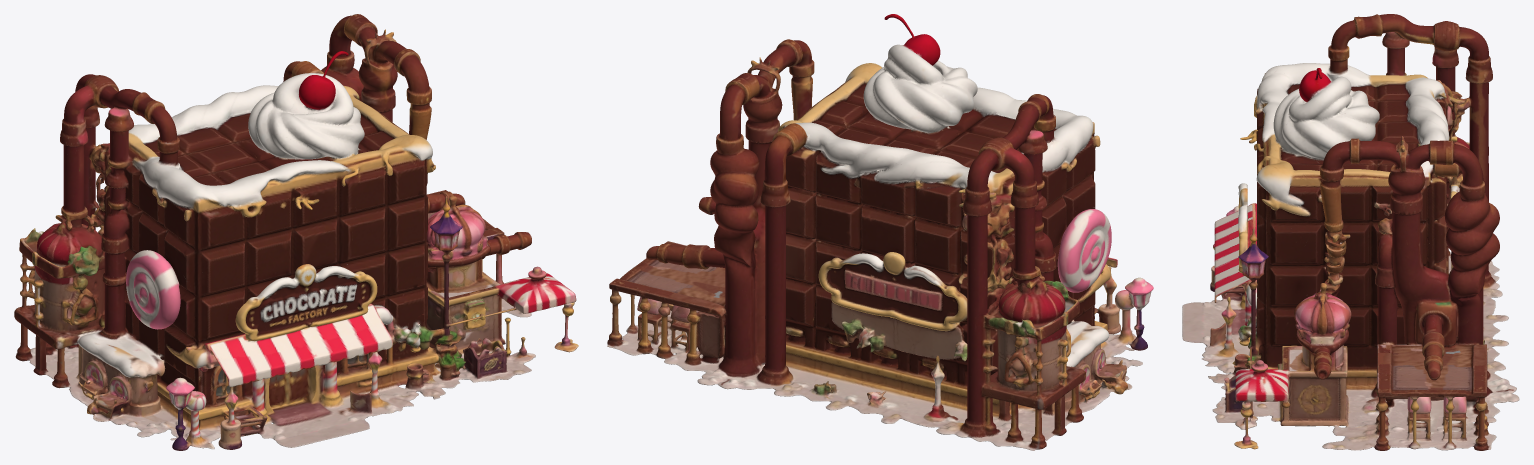
File: Meshy_AI_The_Chocolate_Factory_1024084813_texture.fbx
The picture shows the model from 3 angles, left to right: view 1: azimuth 30°, elevation 25°; view 2: azimuth 150°, elevation 25°; view 3: azimuth 270°, elevation 25°; orthographic projection. The views are drawn at different scales.
Visible parts, largest first — view 1: Mesh_0; view 2: Mesh_0; view 3: Mesh_0.
Part boxes in pixels (x1,y1,x2,y2): Mesh_0: [14, 14, 578, 450]; Mesh_0: [607, 14, 1153, 450]; Mesh_0: [1182, 14, 1519, 450].
Size of the model in its own units: 190 by 130 by 135.
1 material, 1 textured.
